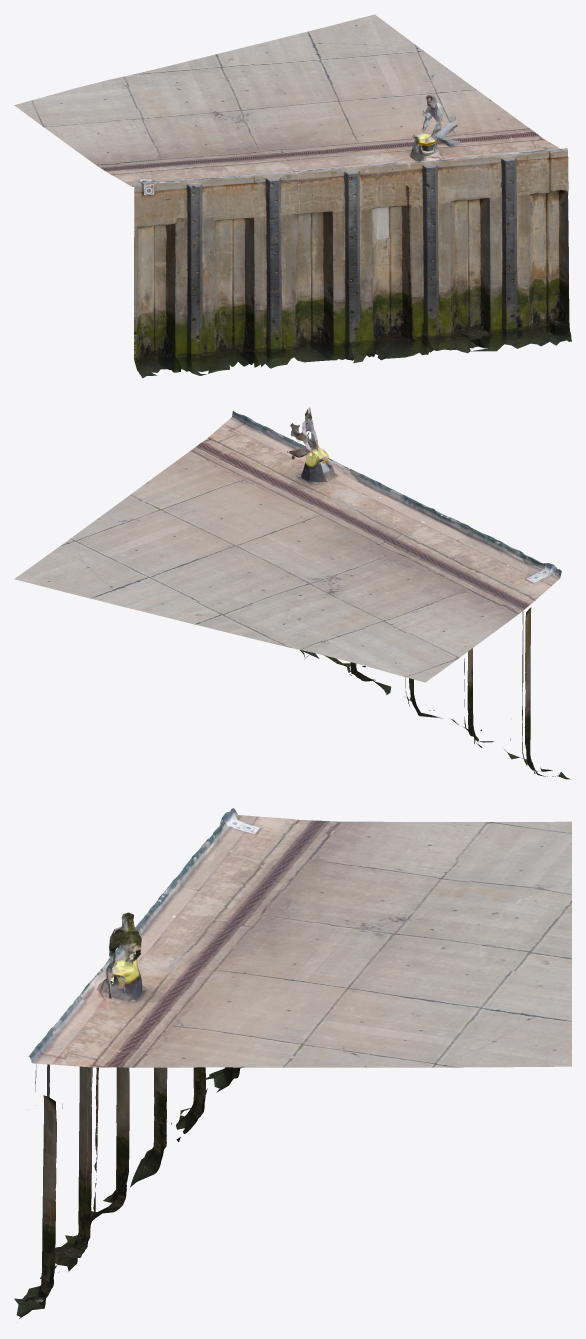
3 renders of one model, top to bottom at view 1: azimuth 30°, elevation 25°; view 2: azimuth 150°, elevation 25°; view 3: azimuth 270°, elevation 25°, orthographic. The views are drawn at different scales.
Bounding box in the file's own units: 8.36 × 5.39 × 7.92.
3 materials, 3 textured.
